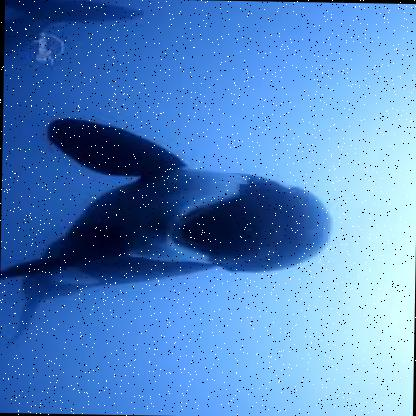blue_whale: (3, 106, 346, 364)
